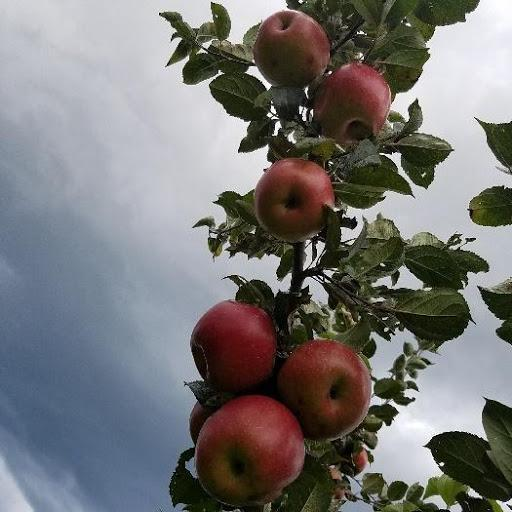apple: (191, 393, 306, 505), (277, 337, 371, 446), (188, 300, 275, 392), (252, 157, 335, 246), (310, 65, 390, 147), (252, 8, 330, 88)
